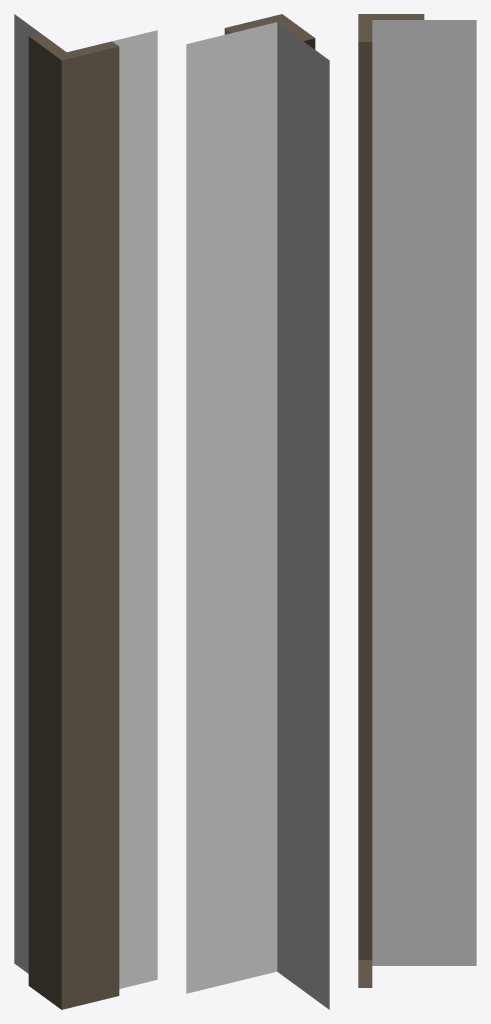
File: mid-c1_close.fbx
3 views of the same model, side by side, from view 1: azimuth 30°, elevation 25°; view 2: azimuth 210°, elevation 25°; view 3: azimuth 270°, elevation 25° (orthographic).
Parts seen in each view (by area): view 1: a2015/800/mid-c1_close; view 2: a2015/800/mid-c1_close; view 3: a2015/800/mid-c1_close.
Part boxes in pixels (x1,y1,x2,y2): a2015/800/mid-c1_close: (14,14,157,1009); a2015/800/mid-c1_close: (186,14,329,1009); a2015/800/mid-c1_close: (358,14,476,987).
Bounding box in the file's own units: 0.34 × 3 × 0.34.
